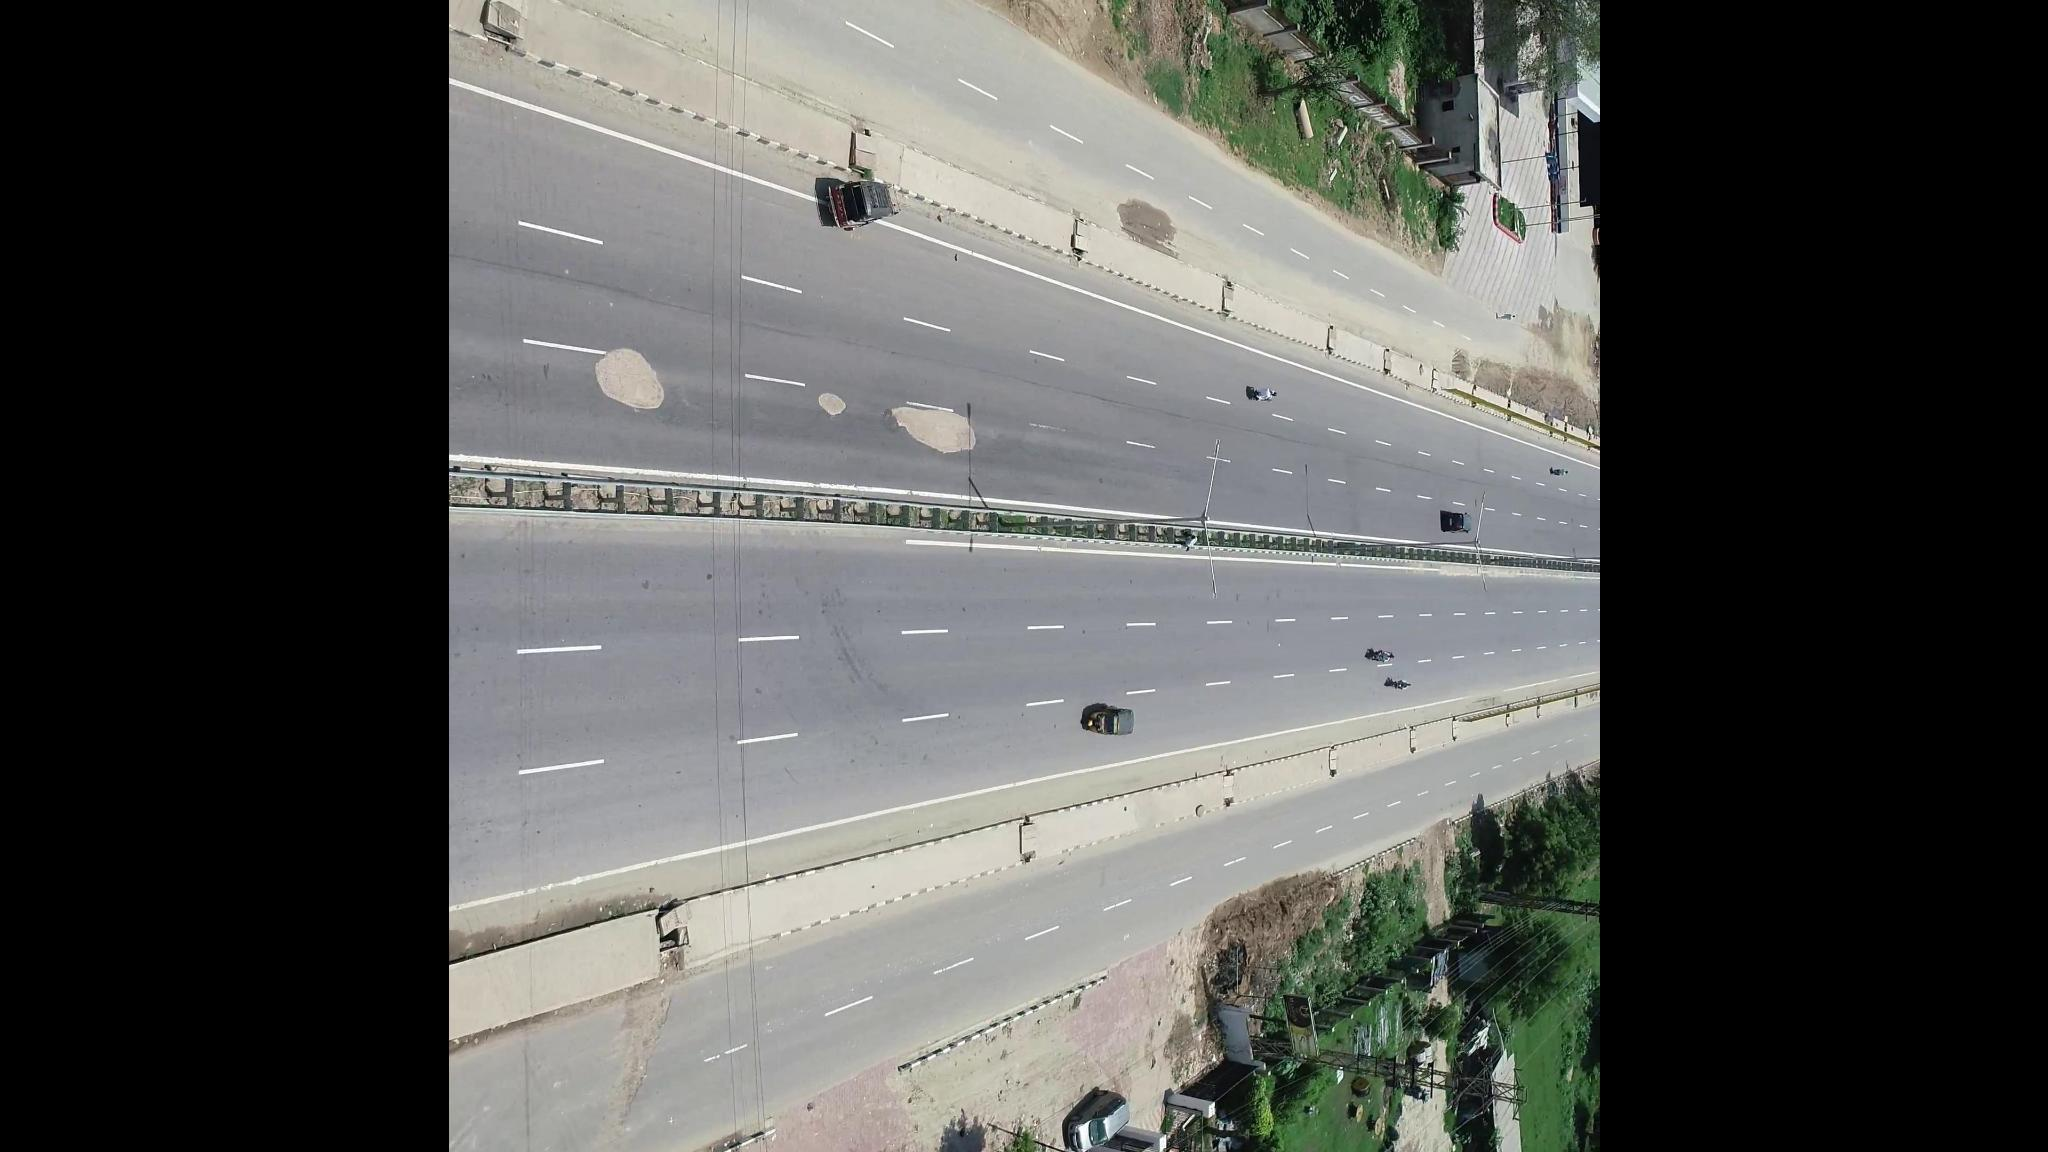Potholes: (873, 369, 1039, 464), (585, 318, 691, 429), (800, 369, 869, 435)
